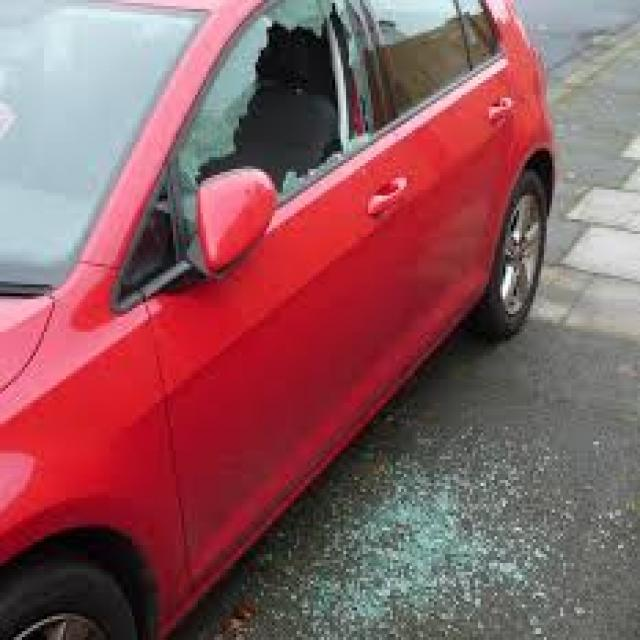damaged-window: (186, 0, 382, 229)
